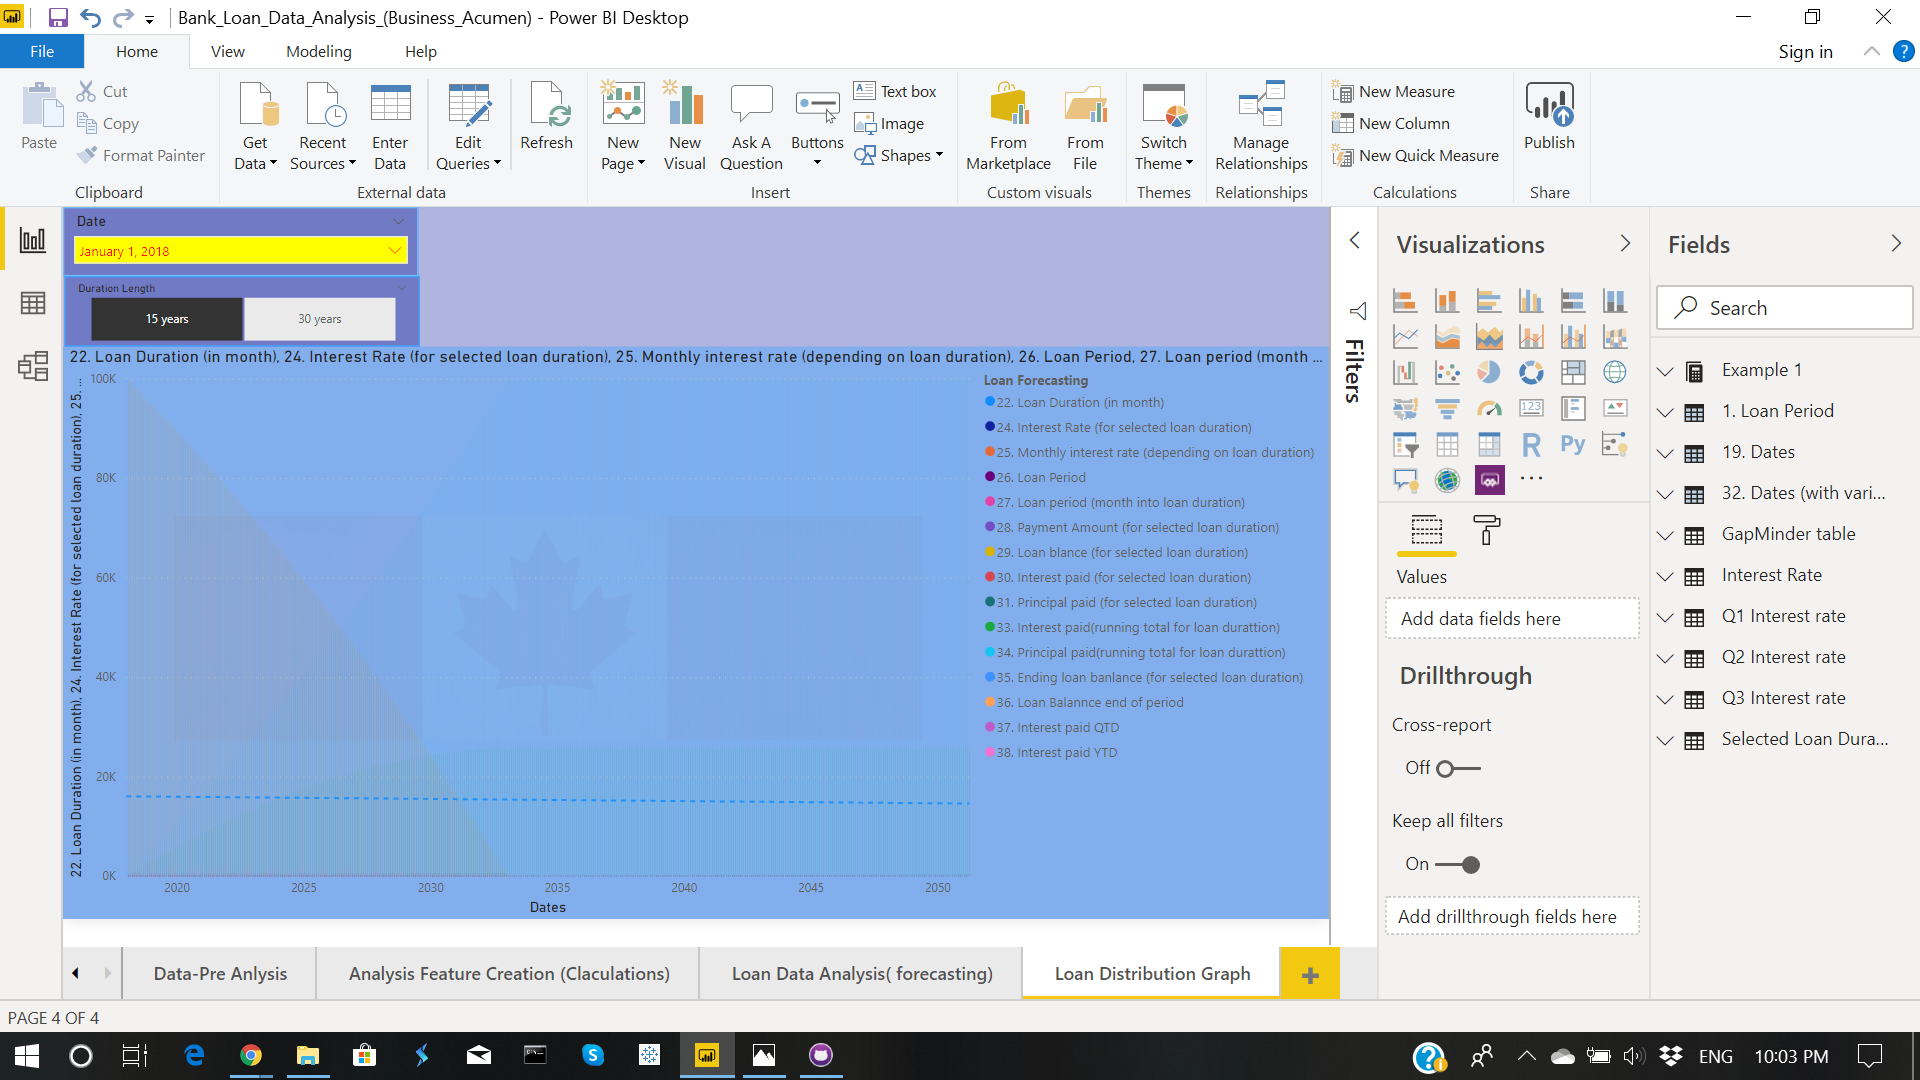

This screenshot's page, from the dashboard's own definition file:
{"tool":"powerbi","page":{"name":"Loan Distribution Graph","canvas":[1280,720],"ordinal":3},"visuals":[{"type":"clusteredColumnChart","fields":{"Category":["32. Dates (with variable).Dates"],"Y":["Example 1.22. Loan Duration (in month)","Example 1.24. Interest Rate (for selected loan duration)","Example 1.25. Monthly interest rate (depending on loan duration)","Example 1.26. Loan Period","Example 1.27. Loan period (month into loan duration)","Example 1.28. Payment Amount (for selected loan duration)","Example 1.29. Loan blance (for selected loan duration)","Example 1.30. Interest paid (for selected loan duration)","Example 1.31. Principal paid (for selected loan duration)","Example 1.33. Interest paid(running total for loan durattion)","Example 1.34. Principal paid(running total for loan durattion)","Example 1.35. Ending loan banlance (for selected loan duration)"]},"box":[0,141,1280,579.3],"z":0},{"type":"slicer","fields":{"Values":["Interest Rate.Date"]},"box":[0,0,359.4,69.8],"z":1000},{"type":"slicer","fields":{"Values":["Selected Loan Duration.Duration Length"]},"box":[1.5,69.8,359.4,71.3],"z":2000}]}

Visuals, with their boxes on the page's 1280x720 design canvas (x1, y1, x2, y2). These are canvas units, not pixel positions in the 1920x1080 screenshot, which may show the page scaled, cropped or inside an application window:
clusteredColumnChart - 32. Dates (with variable).Dates x Example 1.22. Loan Duration (in month): crop(0, 141, 1280, 720)
slicer - Interest Rate.Date: crop(0, 0, 359, 70)
slicer - Selected Loan Duration.Duration Length: crop(2, 70, 361, 141)
